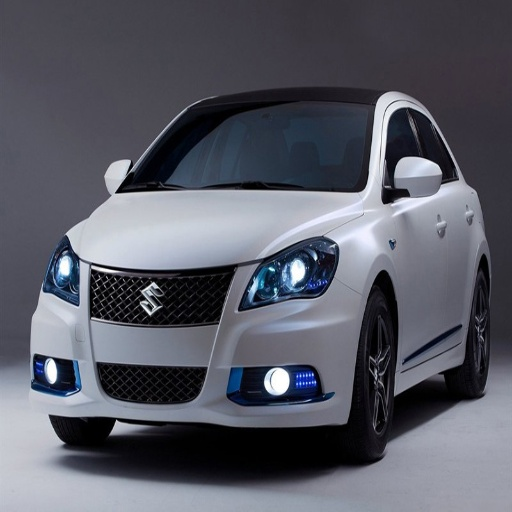front_bumper: (30, 258, 366, 426)
front_glass: (117, 105, 374, 193)
front_left_door: (382, 99, 446, 363)
front_right_light: (44, 240, 80, 304)
